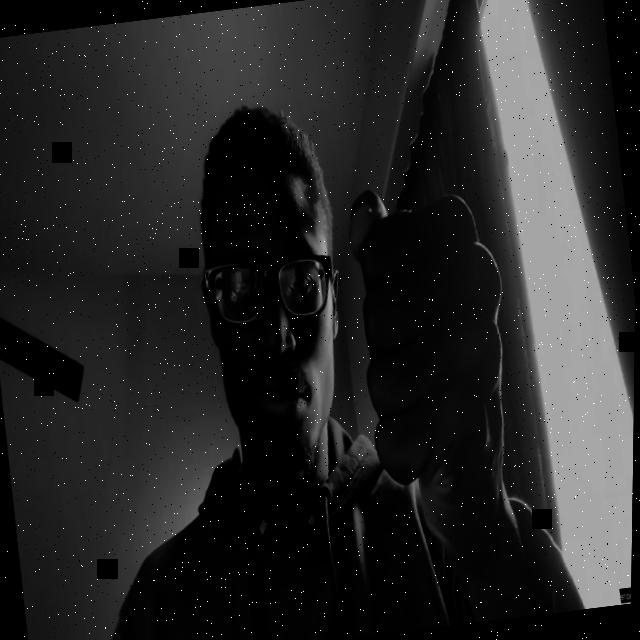Rock: (340, 173, 537, 573)
